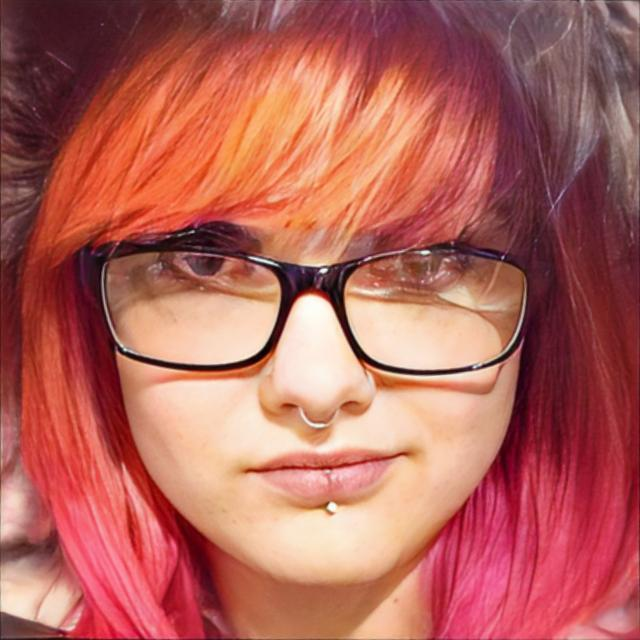content: (103, 46, 532, 590)
